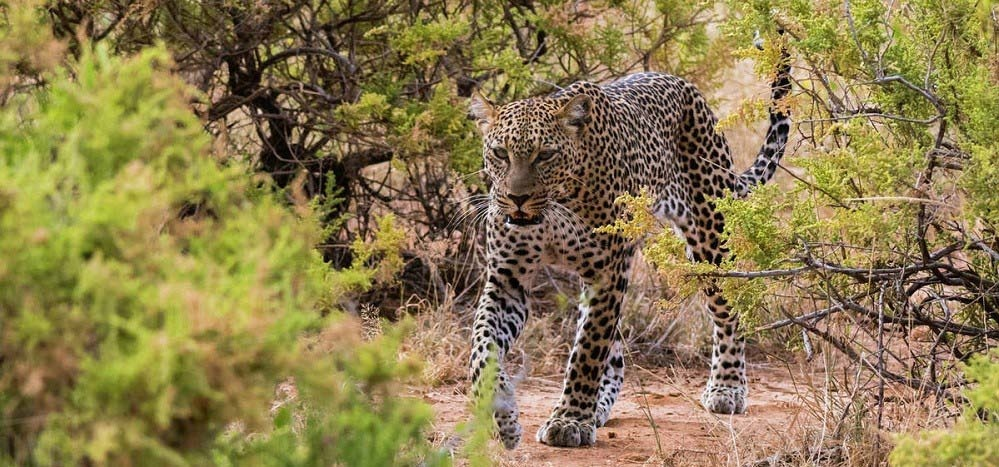leopard: (465, 18, 801, 451)
